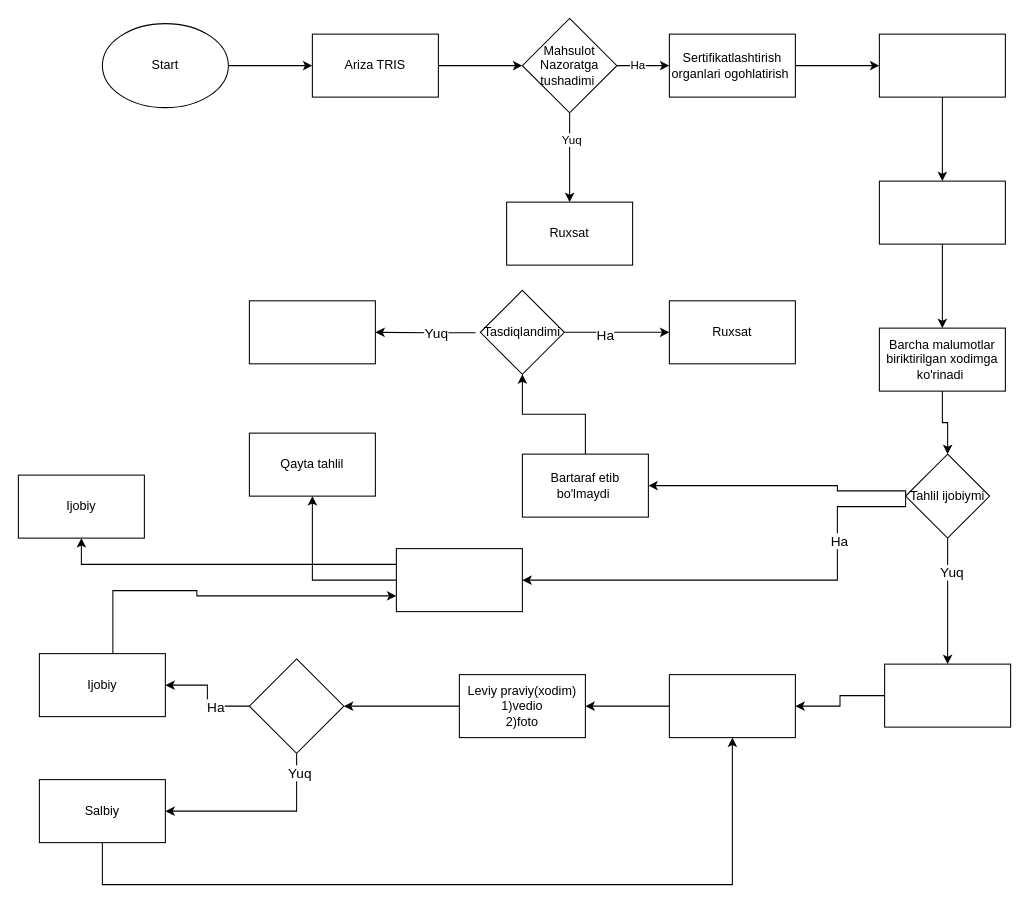
Image size: 1029x911. Some labels were removed from this diagram. The box of each missing label's shape, as (x1, y1, x2, y2) in pixels:
Bartaraf etiladi: (248, 300, 375, 364)
Kamchiliklar bartaraf etildimi: (248, 658, 344, 753)
Nazoratga olish uchun ariza topshirish: (878, 33, 1005, 97)
Salbiy deb topiladi. 1)Rahbar 2)Bo'lim 3)Zam: (884, 663, 1011, 727)
Sertifikat rasmiylashtirish bosqichiga yetib kelish: (878, 180, 1005, 244)
Sertifikatlashtirish organlari kamchiliklarni bartaraf etadi: (668, 674, 795, 738)
Tasdiq 1) Bo'lim 2) Rahbar 3) Zam: (395, 548, 522, 612)
